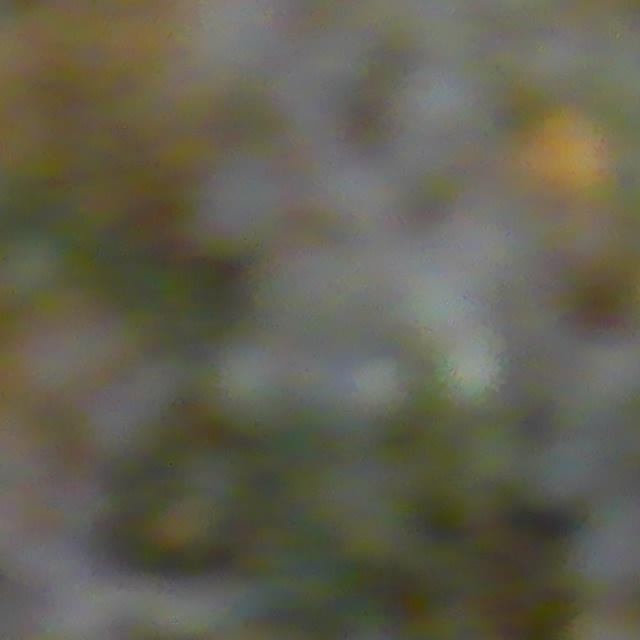SeaGrape: (202, 336, 296, 434), (426, 331, 514, 418)
